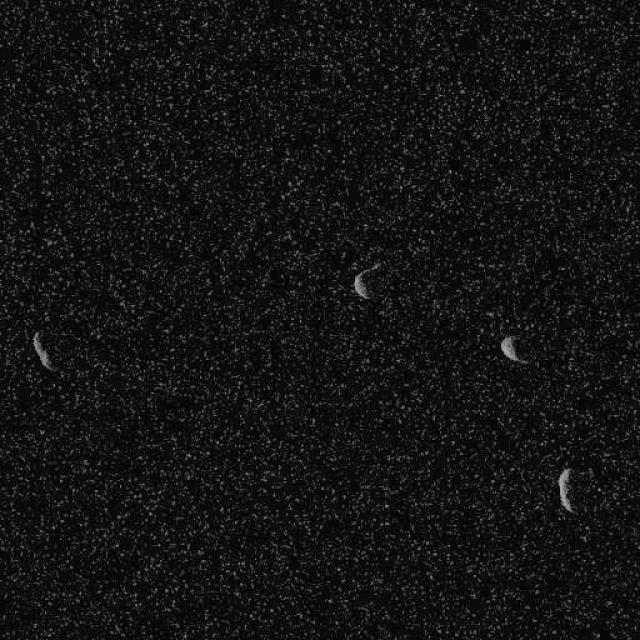D2: (351, 259, 384, 301), (30, 328, 58, 374), (498, 334, 528, 365), (556, 467, 576, 512)
